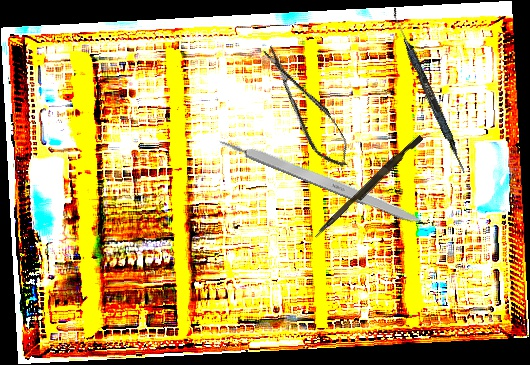Micro Scissor: (256, 37, 357, 176)
Pusher: (313, 132, 424, 242)
Scalpel Handle: (217, 131, 429, 230)
Spatula Surgical: (386, 7, 471, 175)
